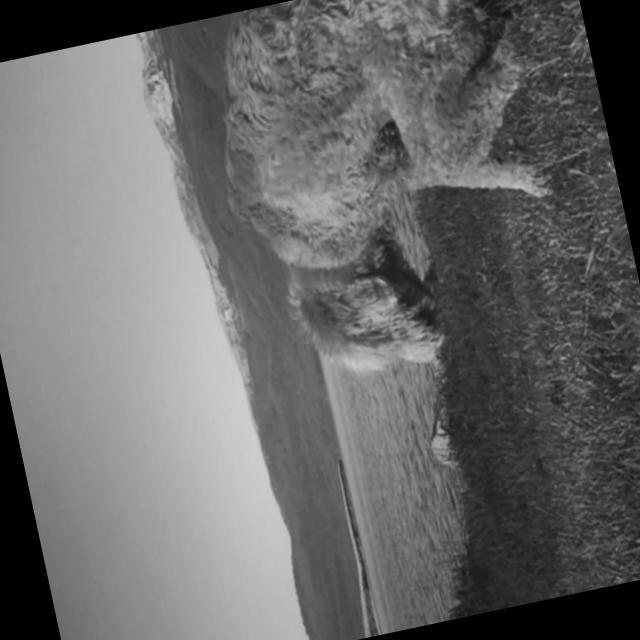squatting: (183, 0, 593, 411)
